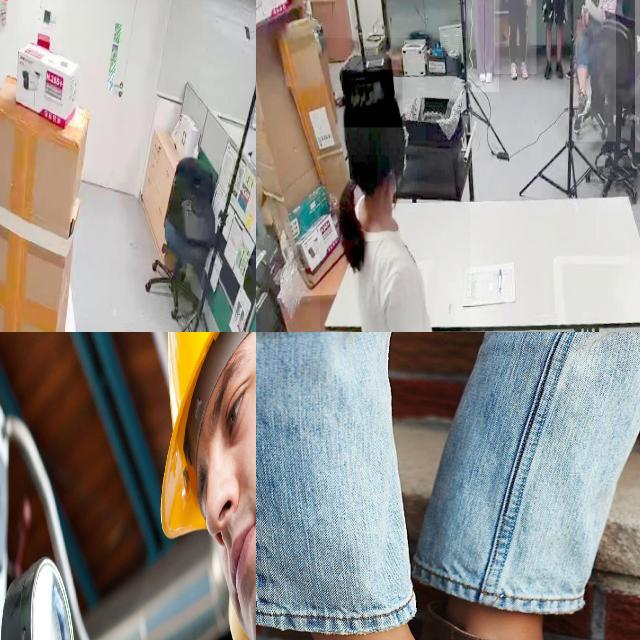Ear-protection: (178, 332, 256, 640)
No_Glasses: (196, 332, 256, 483)
hand_noglove: (524, 0, 531, 6)
head_nohelmet: (343, 70, 403, 128)
person: (319, 37, 470, 332), (140, 332, 256, 640), (573, 0, 616, 142), (494, 0, 537, 75), (534, 0, 573, 80), (466, 0, 499, 93)
shoes: (575, 86, 591, 118), (540, 57, 553, 85), (508, 60, 520, 84), (518, 60, 530, 82), (484, 66, 496, 85), (476, 62, 486, 83), (554, 59, 564, 80)
